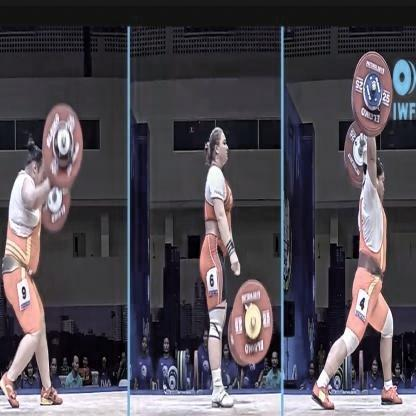Barbell: (60, 131, 69, 151), (250, 314, 258, 330), (372, 80, 379, 93)
